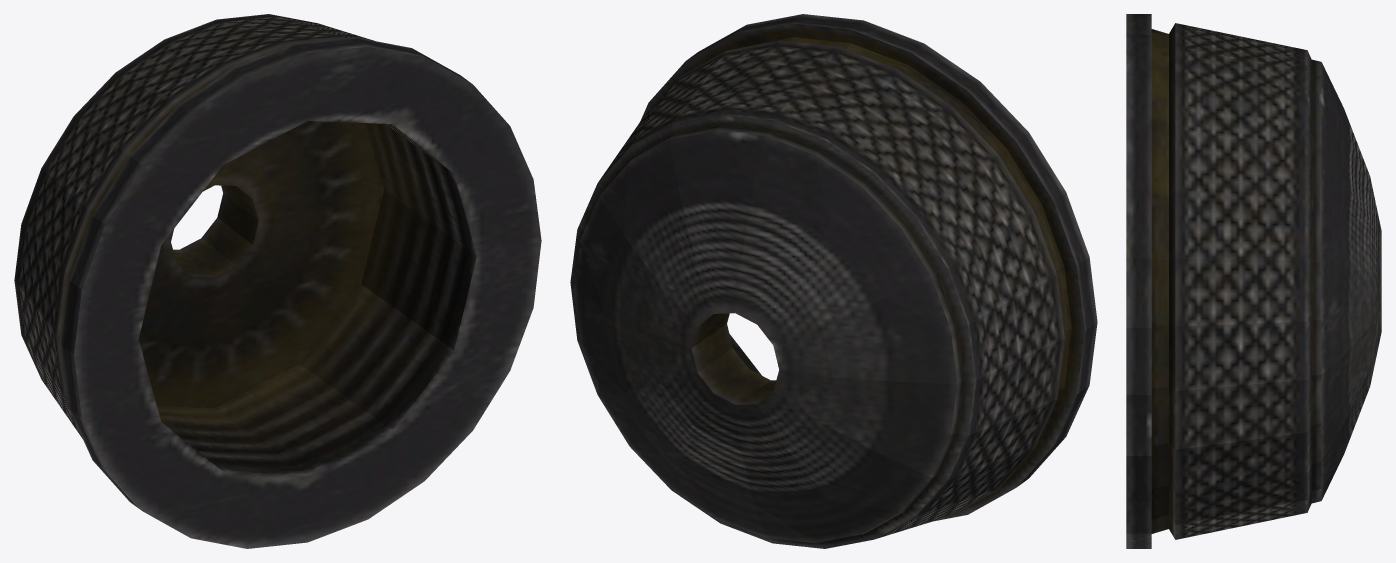
The picture shows the model from 3 angles, left to right: view 1: azimuth 30°, elevation 25°; view 2: azimuth 150°, elevation 25°; view 3: azimuth 270°, elevation 25°; orthographic projection.
Visible parts, largest first — view 1: TW_5a7882dcc5856700177af662_PZ_Import; view 2: TW_5a7882dcc5856700177af662_PZ_Import; view 3: TW_5a7882dcc5856700177af662_PZ_Import.
Part boxes in pixels (<box>): TW_5a7882dcc5856700177af662_PZ_Import: <box>14,14,541,548</box>; TW_5a7882dcc5856700177af662_PZ_Import: <box>570,14,1097,548</box>; TW_5a7882dcc5856700177af662_PZ_Import: <box>1126,14,1381,548</box>.
Bounding box in the file's own units: 0.0202 × 0.00961 × 0.0202.
Materials: 1 (1 with a texture image).
